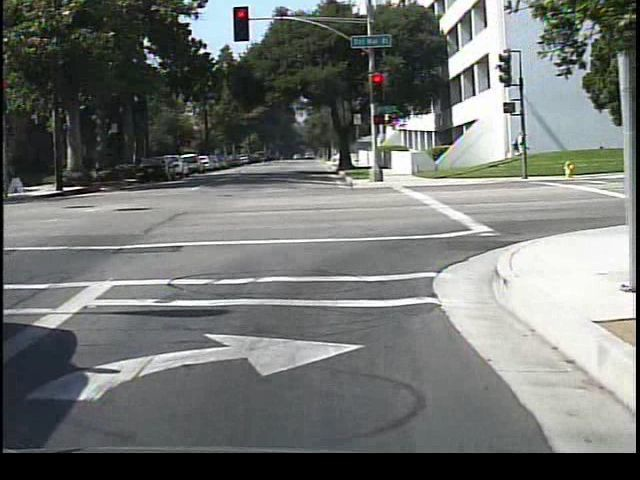person: (505, 128, 529, 174)
